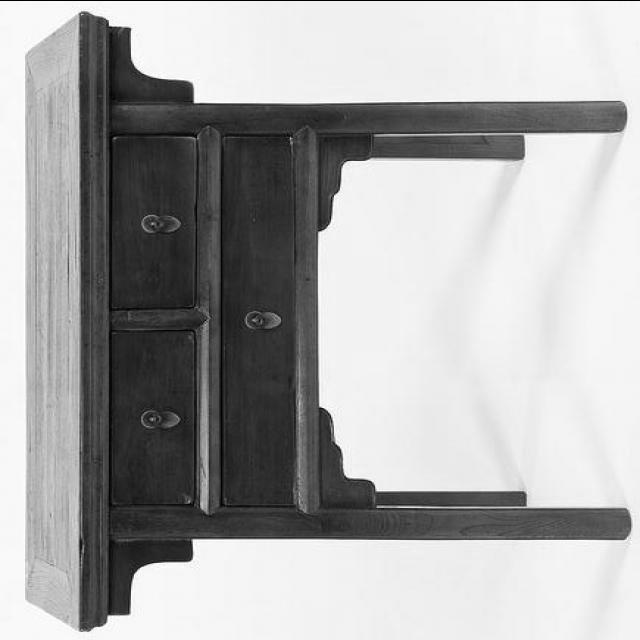table: (20, 14, 628, 626)
